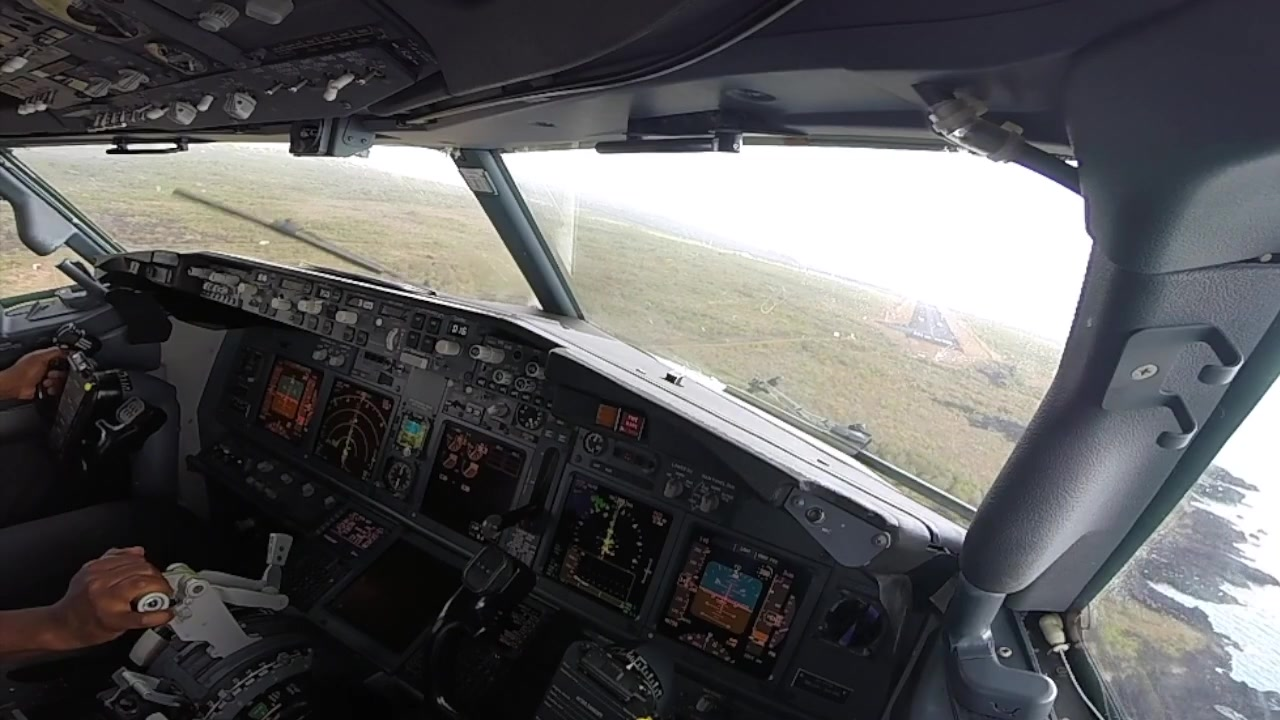entrance: (914, 330, 953, 345)
runway: (909, 299, 966, 353)
